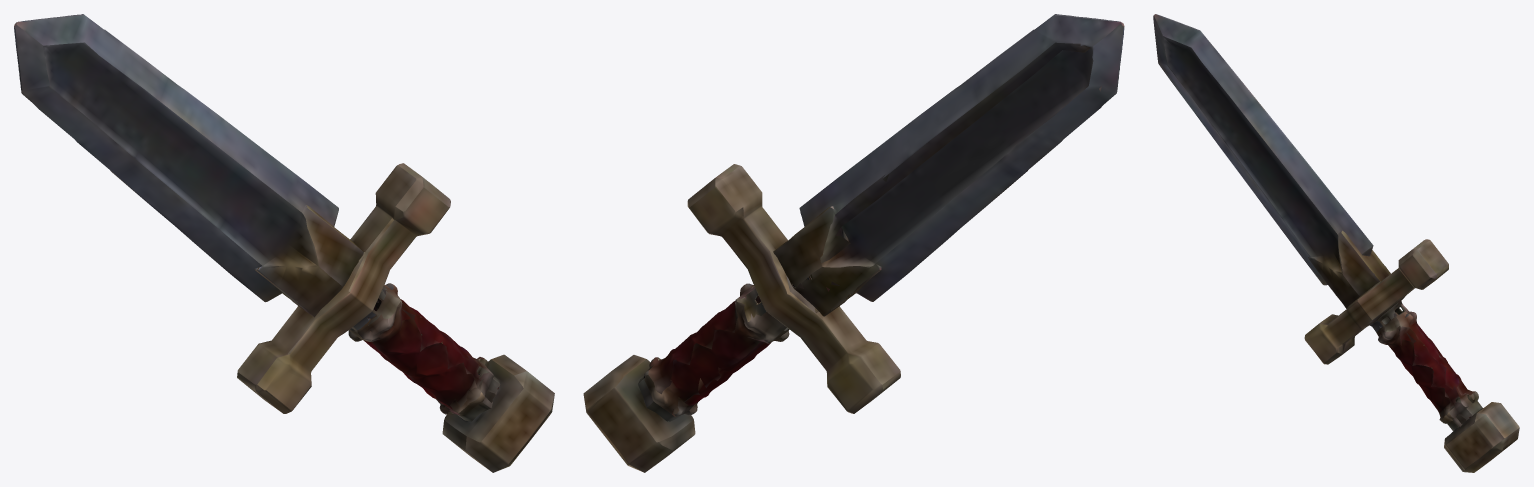
File: hearth_greatsword.glb
The picture shows the model from 3 angles, left to right: view 1: azimuth 30°, elevation 25°; view 2: azimuth 150°, elevation 25°; view 3: azimuth 330°, elevation 25°; orthographic projection. The views are drawn at different scales.
Parts seen in each view (by area): view 1: geometry_0; view 2: geometry_0; view 3: geometry_0.
Boxes of the visible parts, <box> form: geometry_0: <box>14,14,554,472</box>; geometry_0: <box>583,14,1124,472</box>; geometry_0: <box>1153,14,1519,472</box>.
Size of the model in its own units: 0.9965 by 1 by 0.1169.
1 material, 1 textured.
